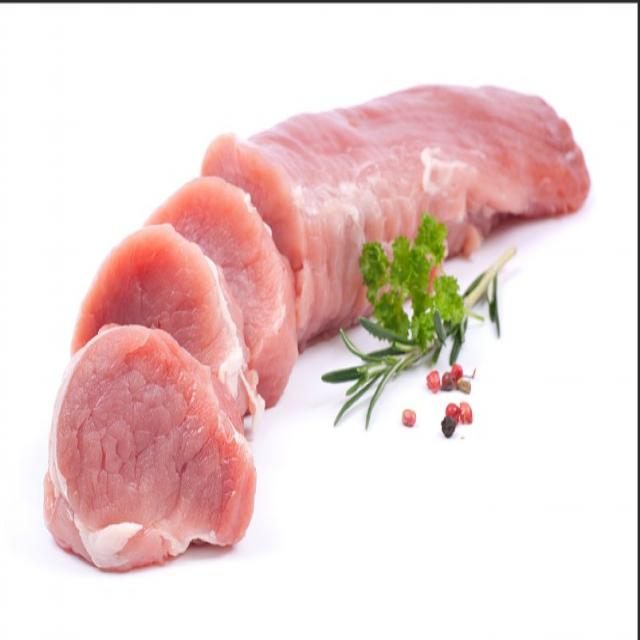pork: (196, 82, 603, 297), (54, 330, 262, 586), (140, 168, 296, 396), (67, 222, 240, 388)
